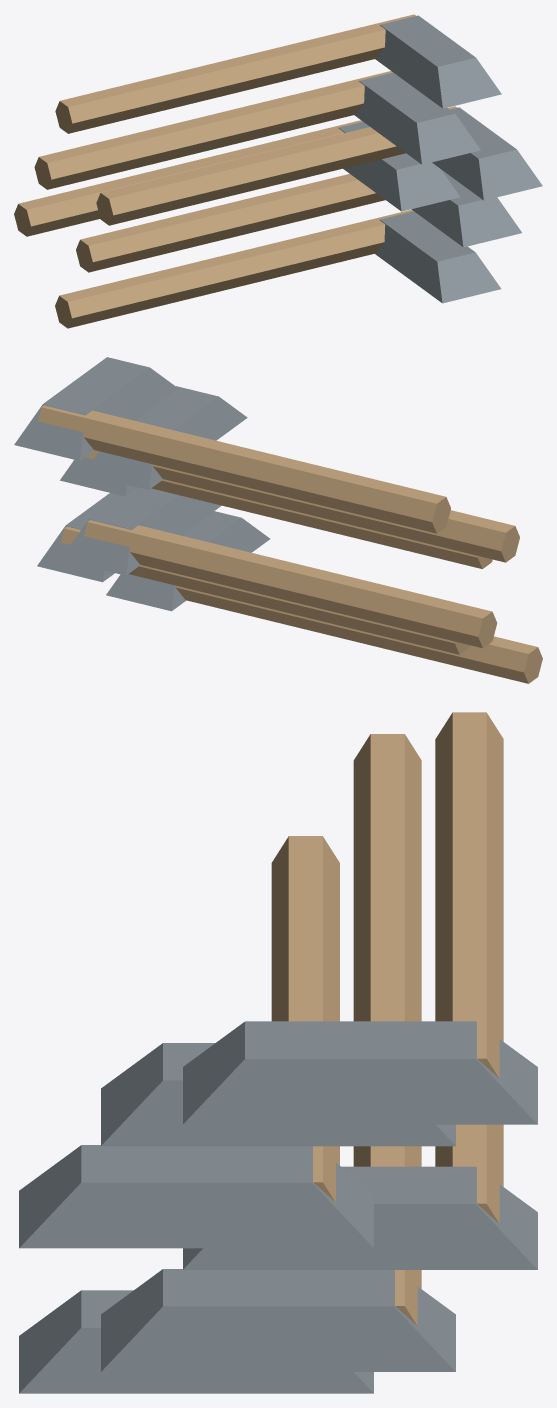
The model's file is item_105_iron_hoe_l.glb.
3 views of the same model, one above another, from view 1: azimuth 30°, elevation 25°; view 2: azimuth 150°, elevation 25°; view 3: azimuth 270°, elevation 25° (orthographic). The views are drawn at different scales.
Visible parts, largest first — view 1: item_105_iron_hoe_l; view 2: item_105_iron_hoe_l; view 3: item_105_iron_hoe_l.
Part boxes in pixels (box(x1,y1,x2,y2)): item_105_iron_hoe_l: box(14, 14, 542, 328); item_105_iron_hoe_l: box(14, 357, 542, 683); item_105_iron_hoe_l: box(19, 712, 537, 1393).
Size of the model in its own units: 0.69 by 0.295 by 0.38.
